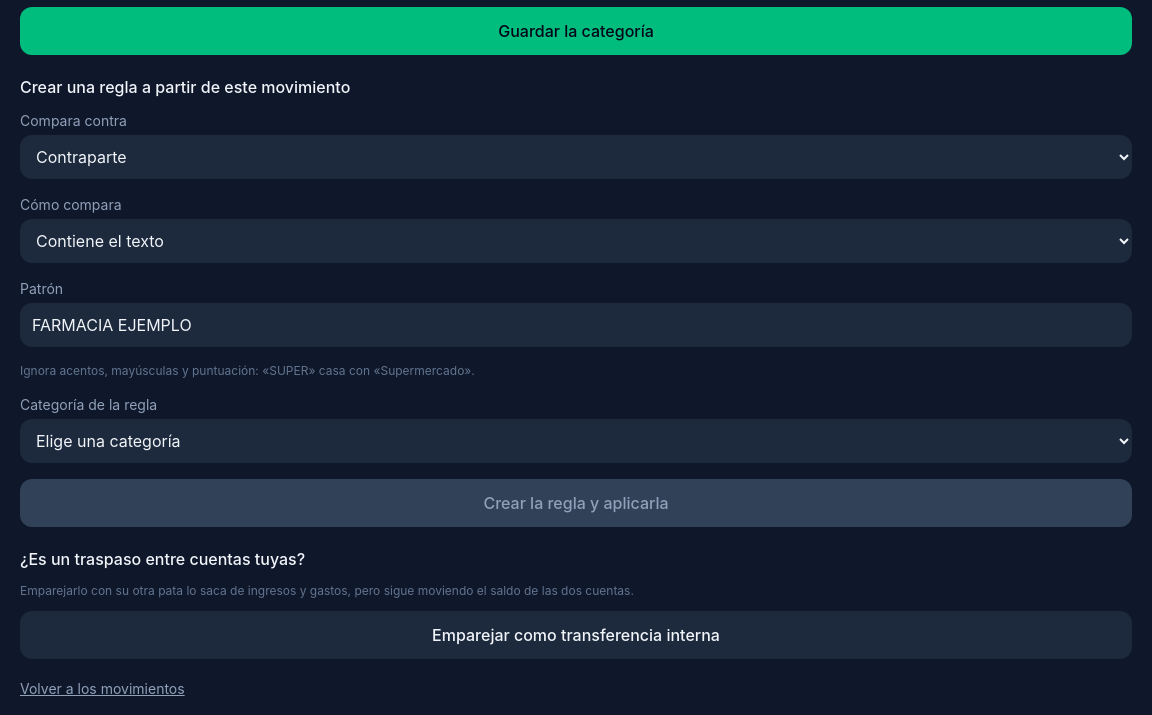
Test: TransactionScreen · crear una regla › avisa cuando la regla no ha categorizado nada
(page scrolled)
Select "Salud" in the dropdown labelled "Categoría de la regla": x=576, y=441 x1=20 y1=419 x2=1132 y2=463
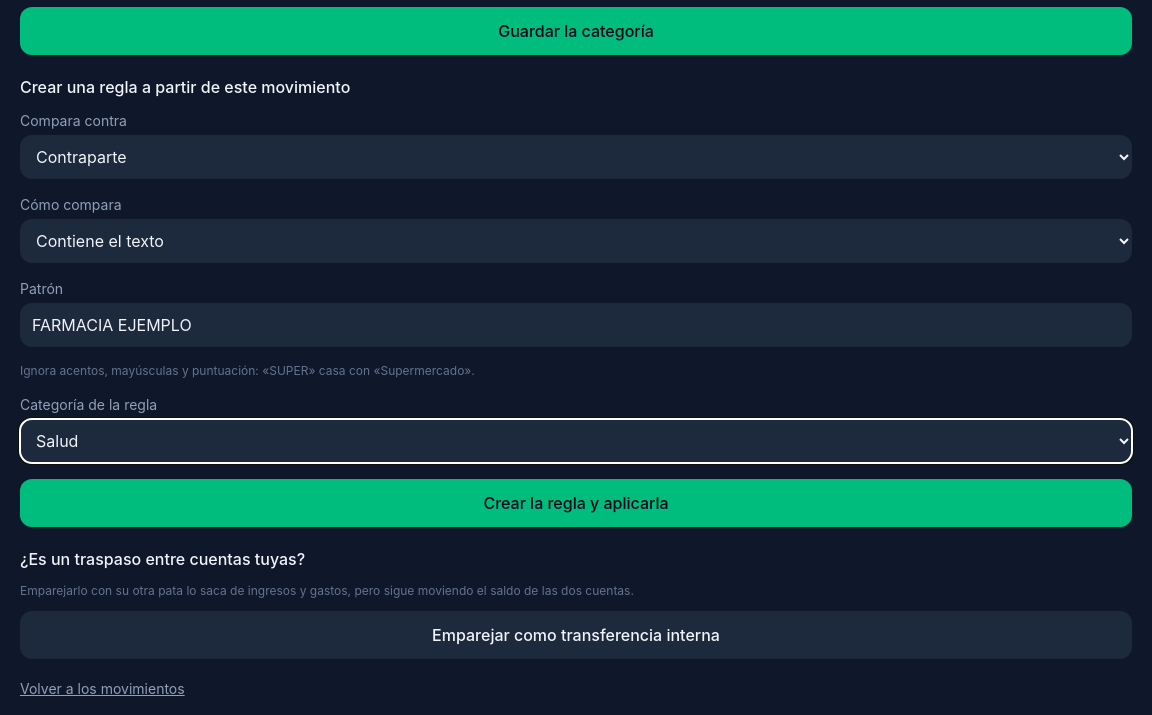
Click the button "Crear la regla y aplicarla": x=576, y=503 x1=20 y1=479 x2=1132 y2=527
(page scrolled)
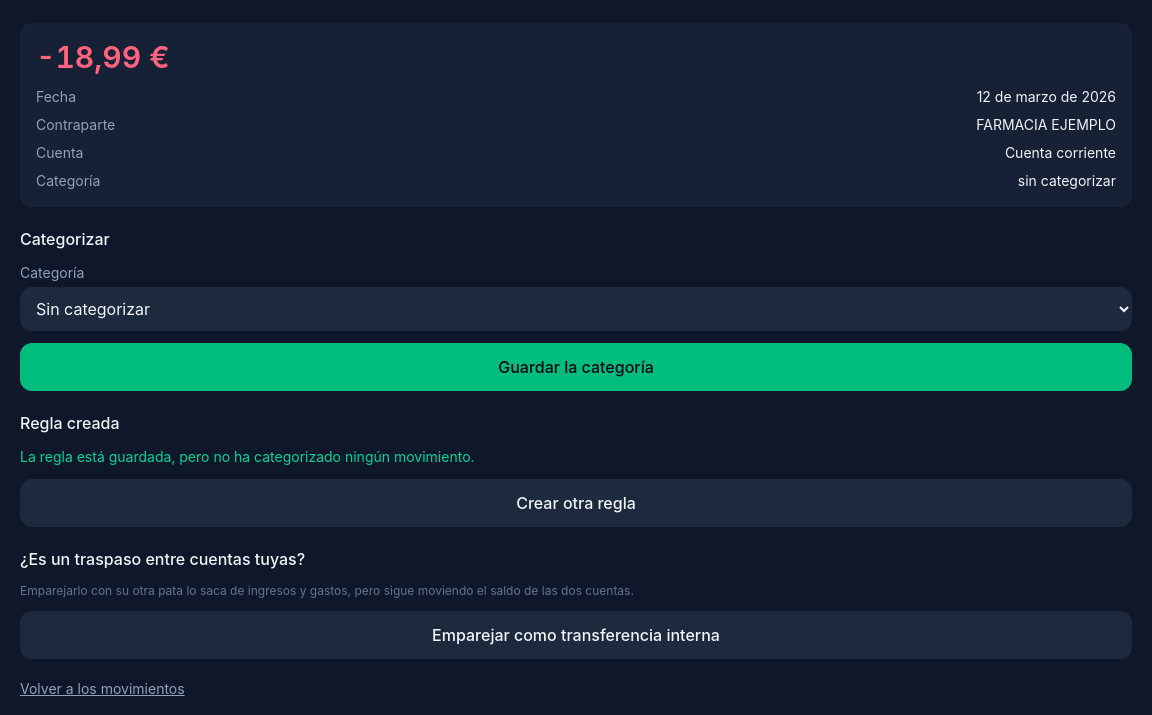
Check: the text "no ha categorizado ningún movimiento" is shown, box x1=20 y1=448 x2=475 y2=465
